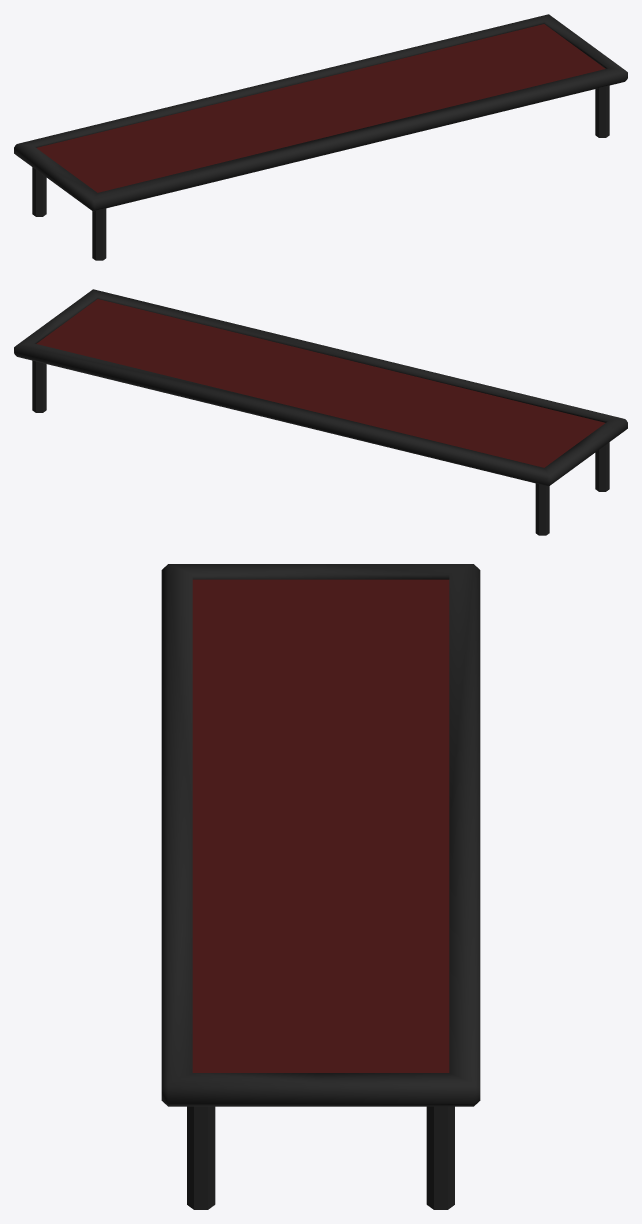
The picture shows the model from 3 angles, top to bottom: view 1: azimuth 30°, elevation 25°; view 2: azimuth 150°, elevation 25°; view 3: azimuth 270°, elevation 25°; orthographic projection. The views are drawn at different scales.
Parts seen in each view (by area): view 1: Cube; view 2: Cube; view 3: Cube.
Boxes of the visible parts, x1,y1,x2,y2 form: Cube: (14, 14, 627, 260); Cube: (14, 289, 627, 535); Cube: (161, 564, 480, 1209).
Bounding box in the file's own units: 715 × 86.18 × 184.
